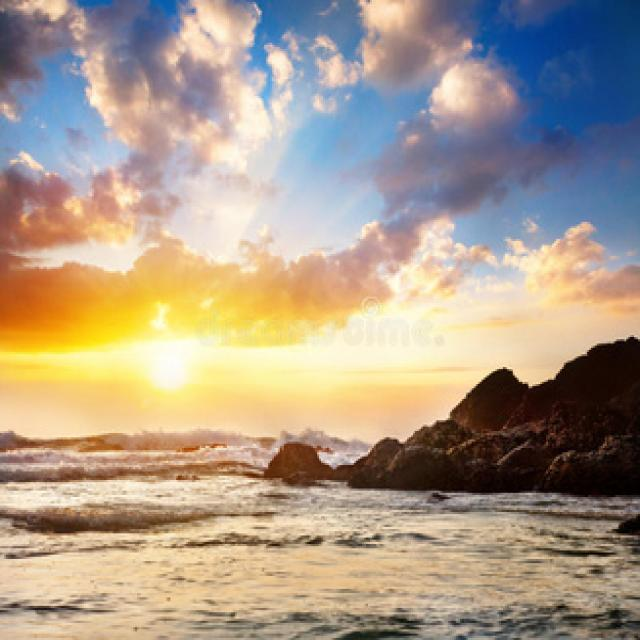reef: (226, 390, 603, 500)
